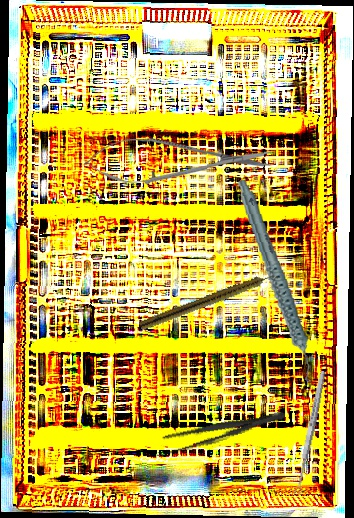Dressing Forceps: (152, 403, 288, 460)
Handpiece: (235, 175, 314, 385), (138, 269, 280, 334)
Micro Scissor: (82, 134, 275, 187)
Surgical Spoon: (292, 370, 328, 496)
